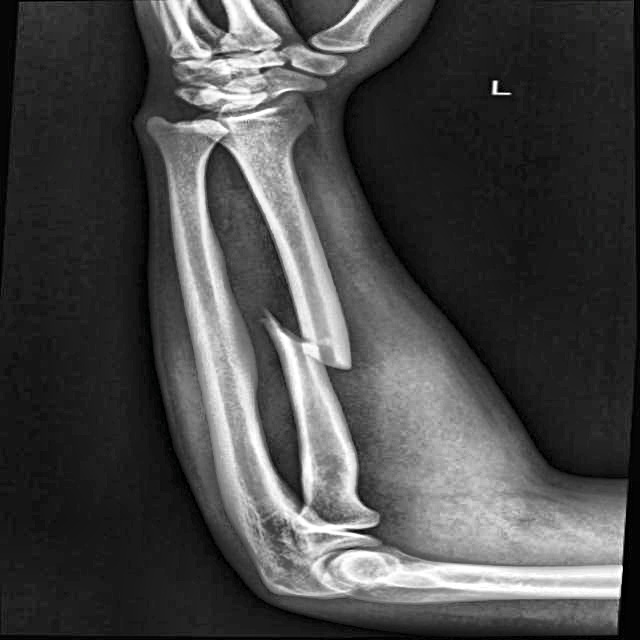Oblique: (250, 297, 384, 391)
